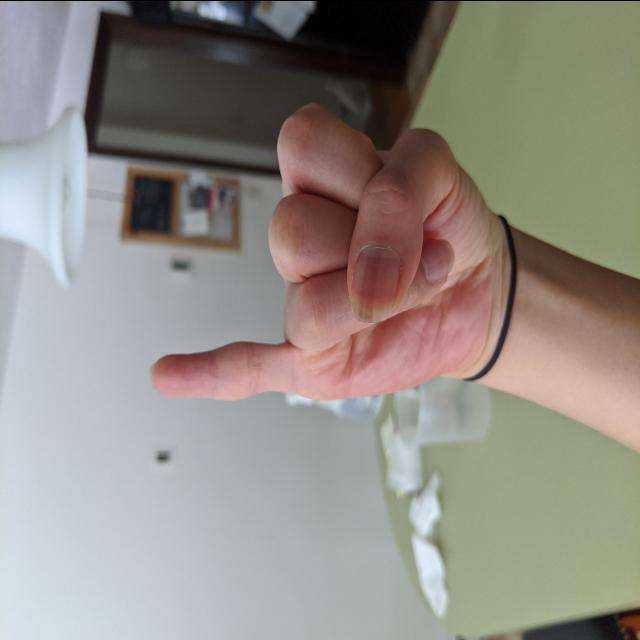I: (144, 90, 518, 414)
